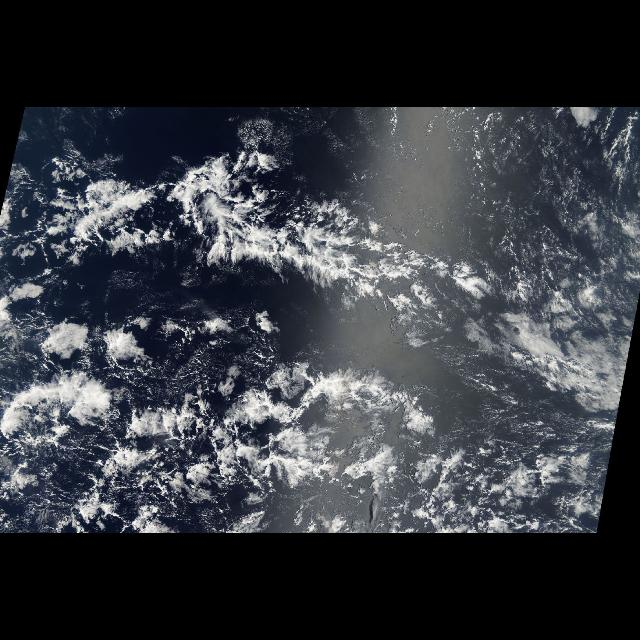Fish: (15, 118, 640, 370)
Gravel: (0, 408, 332, 524)
